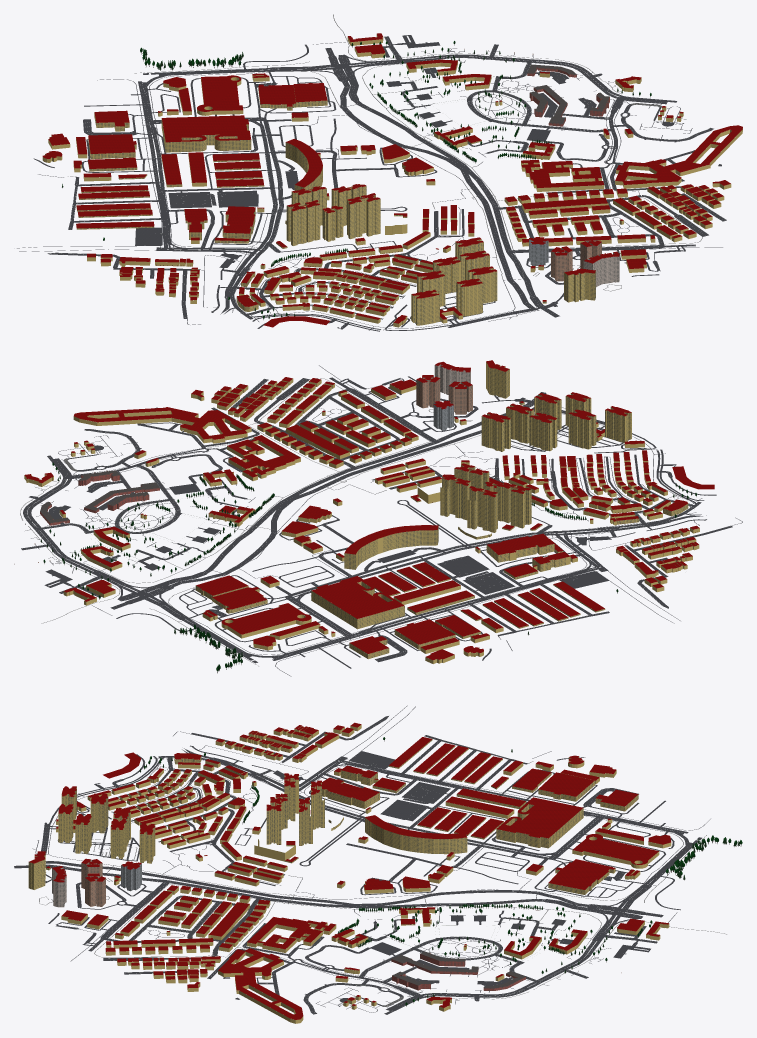
The model's file is osm3d.glb.
3 renders of one model, top to bottom at view 1: azimuth 30°, elevation 25°; view 2: azimuth 150°, elevation 25°; view 3: azimuth 270°, elevation 25°, orthographic. The views are drawn at different scales.
Visible parts, largest first — view 1: RoofingTiles010, ASPHALT, Plaster002, Windows, TextureAtlas ac5ccfba, Concrete034, RoofingTiles010.001, Plaster002.001, Plaster002.004, Plaster002.002; view 2: RoofingTiles010, Plaster002, ASPHALT, Windows, TextureAtlas ac5ccfba, Concrete034, Plaster002.001, RoofingTiles010.001, Plaster002.002, Windows.001, Plaster002.004; view 3: RoofingTiles010, ASPHALT, Plaster002, Windows, TextureAtlas ac5ccfba, Concrete034, RoofingTiles010.001, Plaster002.002, Plaster002.001.
Part boxes in pixels (box(x1,y1,x2,y2)): RoofingTiles010: box(42, 33, 742, 327); ASPHALT: box(17, 35, 726, 331); Plaster002: box(42, 34, 742, 327); Windows: box(77, 86, 595, 325); TextureAtlas ac5ccfba: box(62, 41, 651, 319); Concrete034: box(68, 14, 702, 313); RoofingTiles010.001: box(527, 64, 609, 123); Plaster002.001: box(551, 240, 601, 281); Plaster002.004: box(583, 253, 619, 287); Plaster002.002: box(527, 67, 609, 126); RoofingTiles010: box(25, 360, 714, 660); Plaster002: box(24, 362, 699, 663); ASPHALT: box(21, 365, 742, 676); Windows: box(196, 366, 687, 658); TextureAtlas ac5ccfba: box(40, 462, 696, 673); Concrete034: box(20, 378, 675, 666); Plaster002.001: box(416, 377, 472, 414); RoofingTiles010.001: box(40, 470, 159, 523); Plaster002.002: box(40, 471, 159, 525); Windows.001: box(416, 377, 472, 414); Plaster002.004: box(434, 364, 470, 394); RoofingTiles010: box(29, 722, 671, 1019); ASPHALT: box(14, 705, 710, 1014); Plaster002: box(28, 725, 671, 1023); Windows: box(29, 740, 638, 924); TextureAtlas ac5ccfba: box(139, 737, 742, 1006); Concrete034: box(39, 761, 726, 1006); RoofingTiles010.001: box(392, 951, 525, 988); Plaster002.002: box(391, 953, 525, 990); Plaster002.001: box(81, 860, 105, 906).
Size of the model in its own units: 1359 by 70.07 by 1313.
25 materials, 25 textured.
